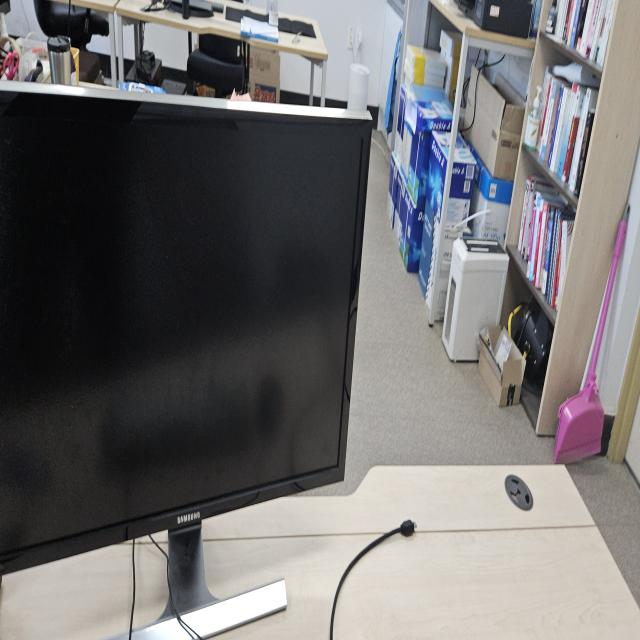Monitor: (1, 75, 374, 630)
